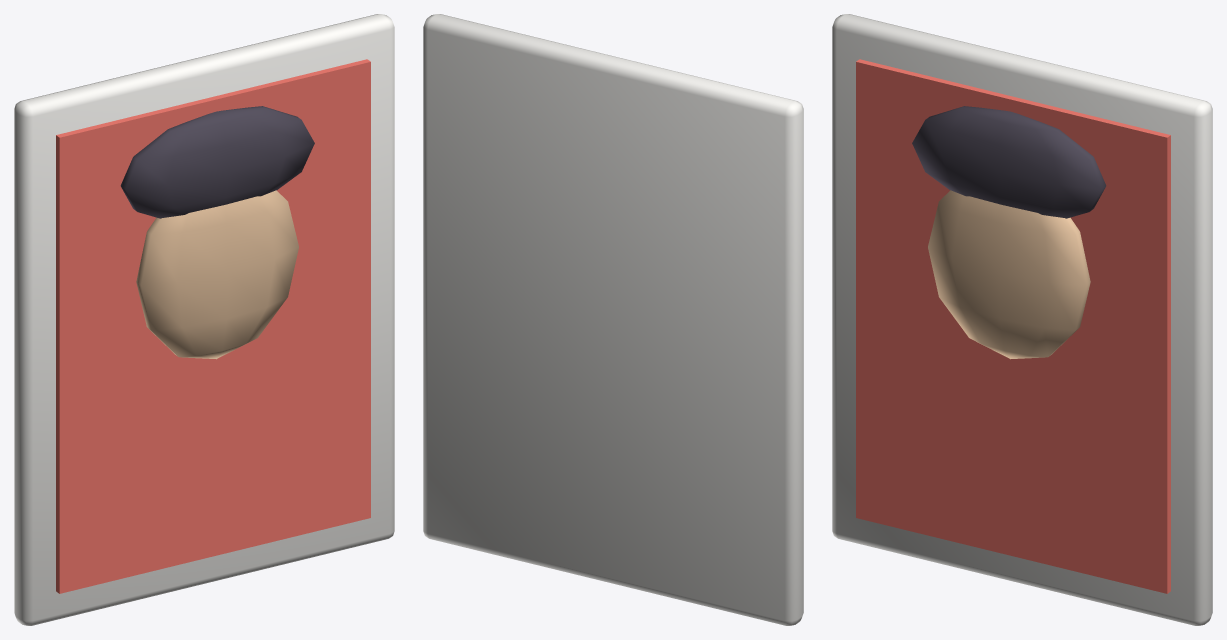
File: Prop_KadLat.fbx
3 renders of one model, left to right at view 1: azimuth 30°, elevation 25°; view 2: azimuth 150°, elevation 25°; view 3: azimuth 330°, elevation 25°, orthographic.
Visible parts, largest first — view 1: Prop_KadLat; view 2: Prop_KadLat; view 3: Prop_KadLat.
Part boxes in pixels (x1,y1,x2,y2): Prop_KadLat: (14, 14, 394, 625); Prop_KadLat: (423, 14, 803, 625); Prop_KadLat: (832, 14, 1212, 625).
Size of the model in its own units: 0.9 by 1.2 by 0.13.
